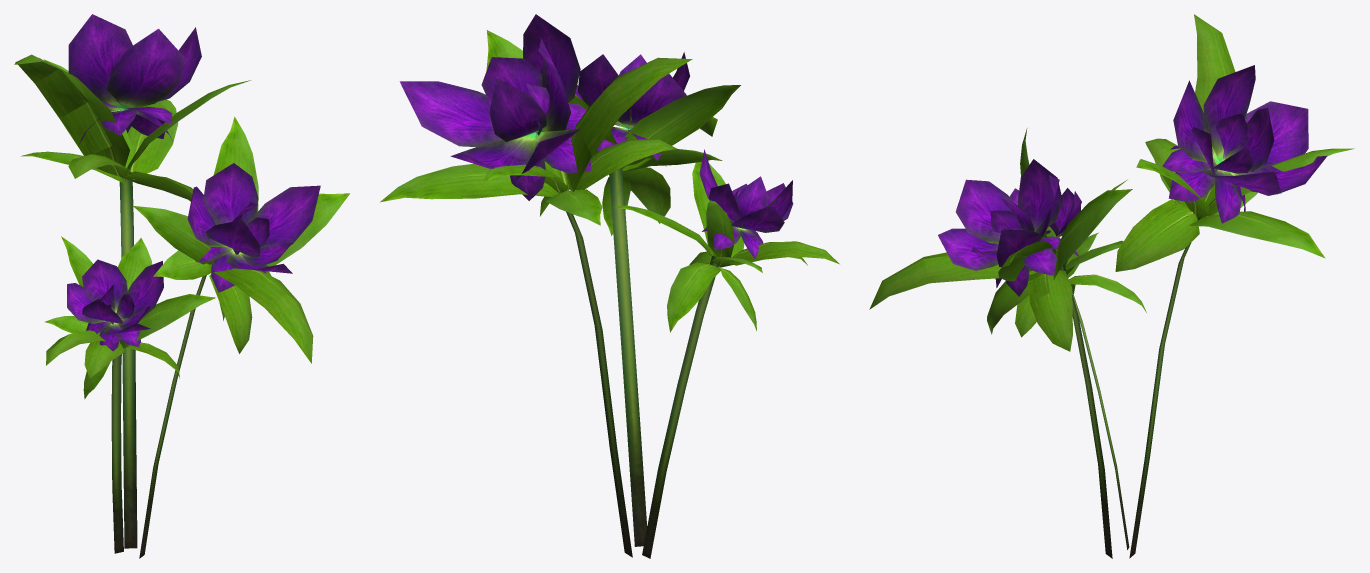
Rendered from leafplant9_lod0.fbx.
3 renders of one model, left to right at view 1: azimuth 30°, elevation 25°; view 2: azimuth 150°, elevation 25°; view 3: azimuth 270°, elevation 25°, orthographic. The views are drawn at different scales.
Visible parts, largest first — view 1: Mesh Object; view 2: Mesh Object; view 3: Mesh Object.
Part boxes in pixels (bbox=[...]): Mesh Object: bbox=[14, 14, 349, 558]; Mesh Object: bbox=[380, 14, 839, 558]; Mesh Object: bbox=[869, 14, 1354, 558].
Bounding box in the file's own units: 0.6621 × 1.04 × 0.9117.
